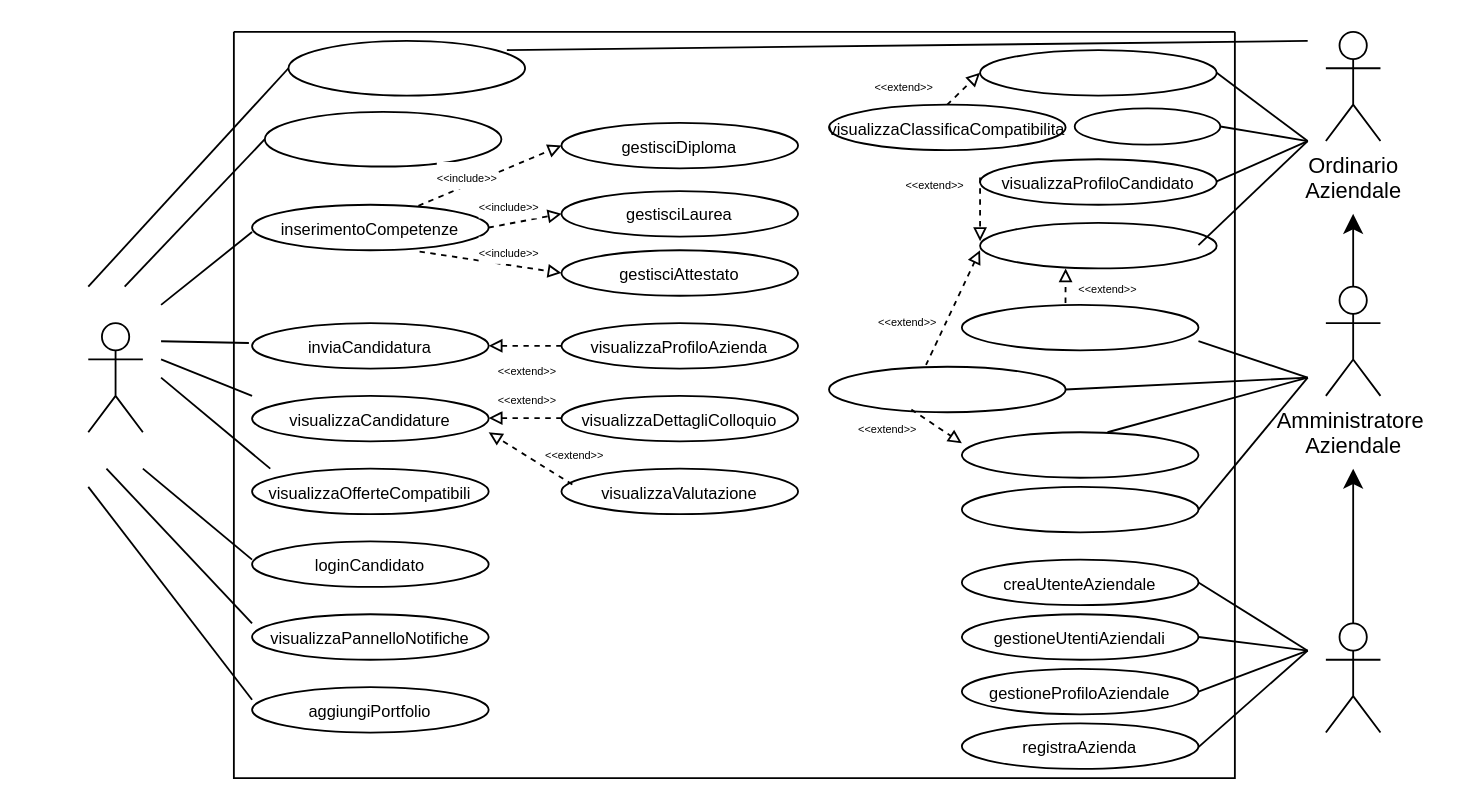
Image size: 1483x810. Some labels were removed from this diagram. The shapes that lost their labels are listed below. From the top down, each one's centre as x and y in pixels, then its label:
At pixel 406 67: "cambiaPassword".
At pixel 1097 72: "visualizzaOfferteAzienda".
At pixel 382 138: "registrazioneUtenteCandidato".
At pixel 1146 125: "loginAziendale".
At pixel 1097 244: "GestioneCandidature".
At pixel 1079 326: "creaValutazioneCandidato".
At pixel 114 376: "Utente Candidato".
At pixel 946 388: "fissaColloquio".
At pixel 1079 454: "gestioneColloqui".
At pixel 1079 508: "creazioneOfferta".
At pixel 1352 677: "Referente Aziendale".
